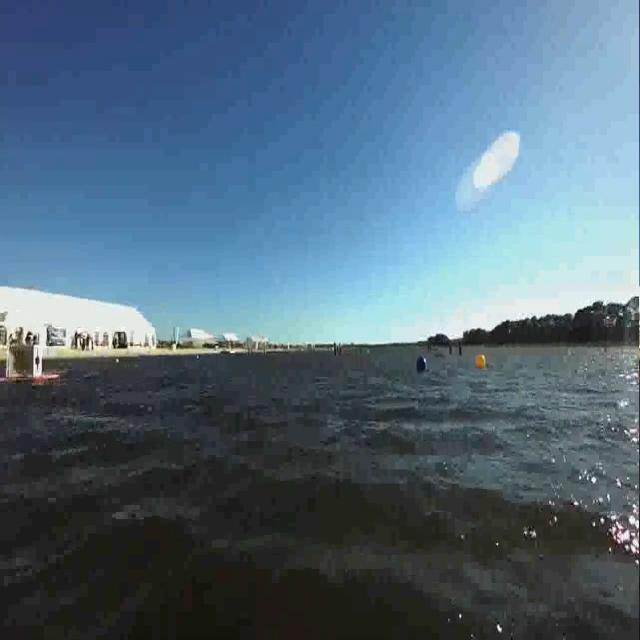blue-buoy: (416, 354, 428, 373)
yellow-buoy: (477, 352, 488, 370)
